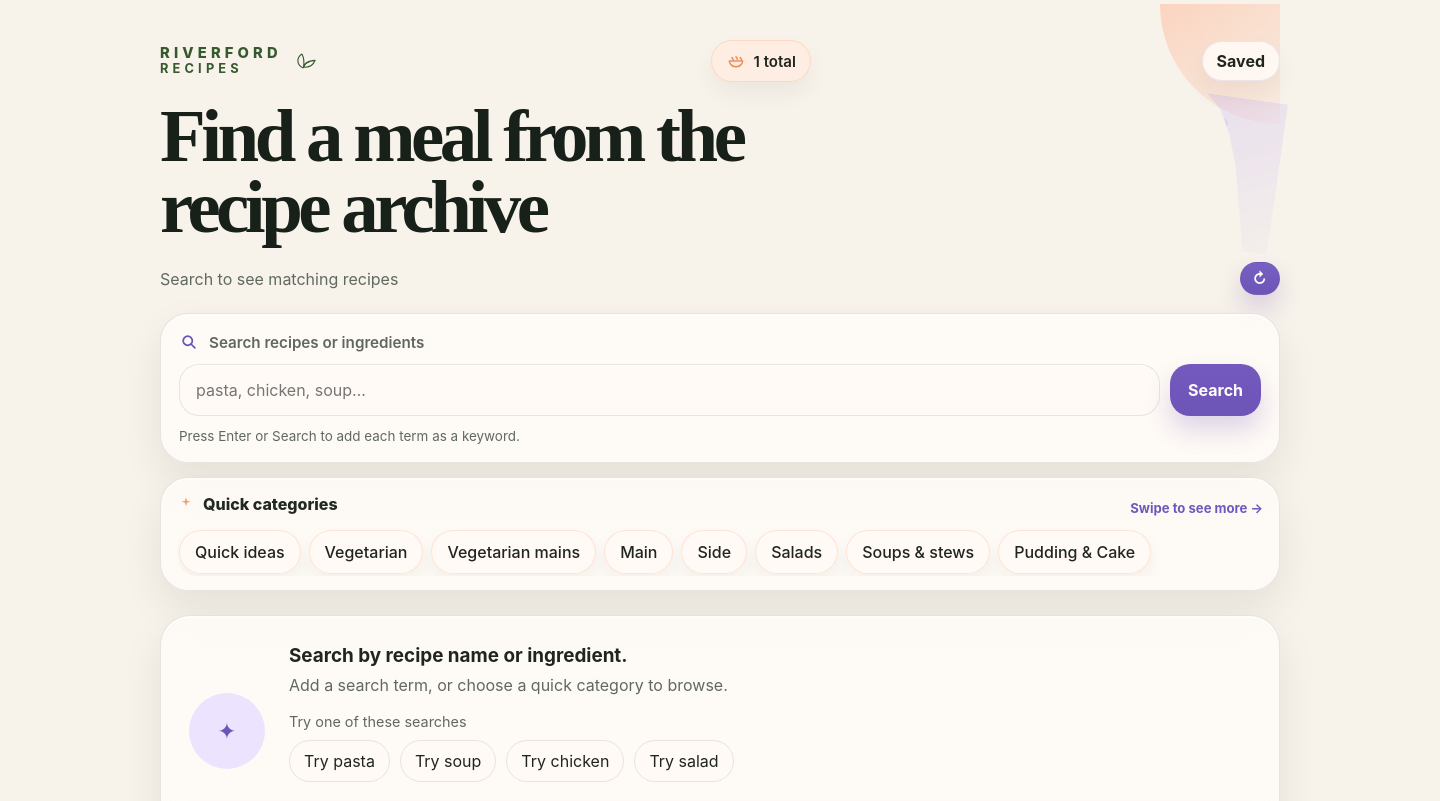
App › adds search chips with Enter and removes them with their buttons
Expected: the text "1 total" is shown, [710,40,811,82]
Type "carrot" into the field labelled "Search" at x=670, y=390, box [179,364,1160,416]
Then press Enter
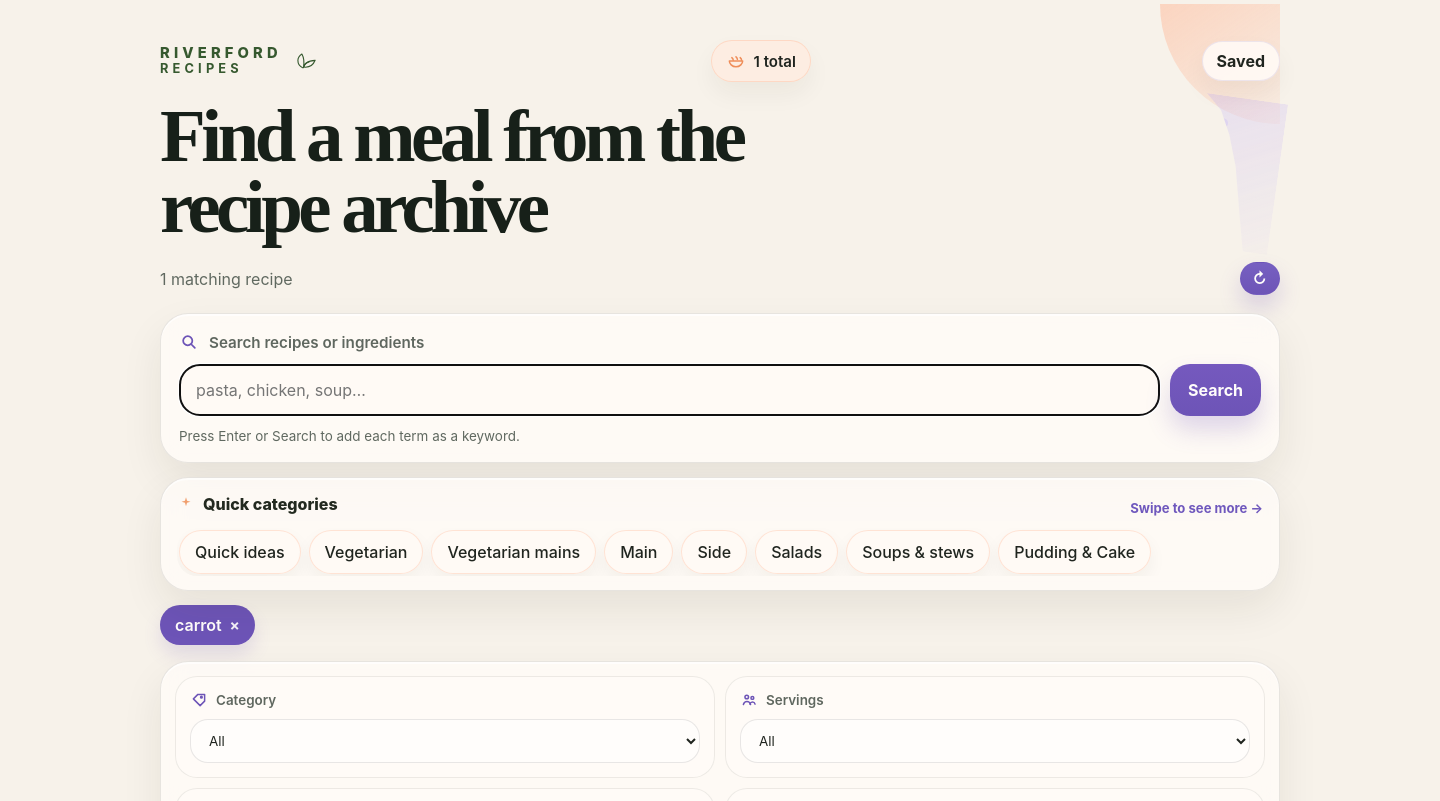
Now the button with aria-label "remove carrot" is shown
Click the button with aria-label "remove carrot" at x=207, y=626, box [160,606,255,646]
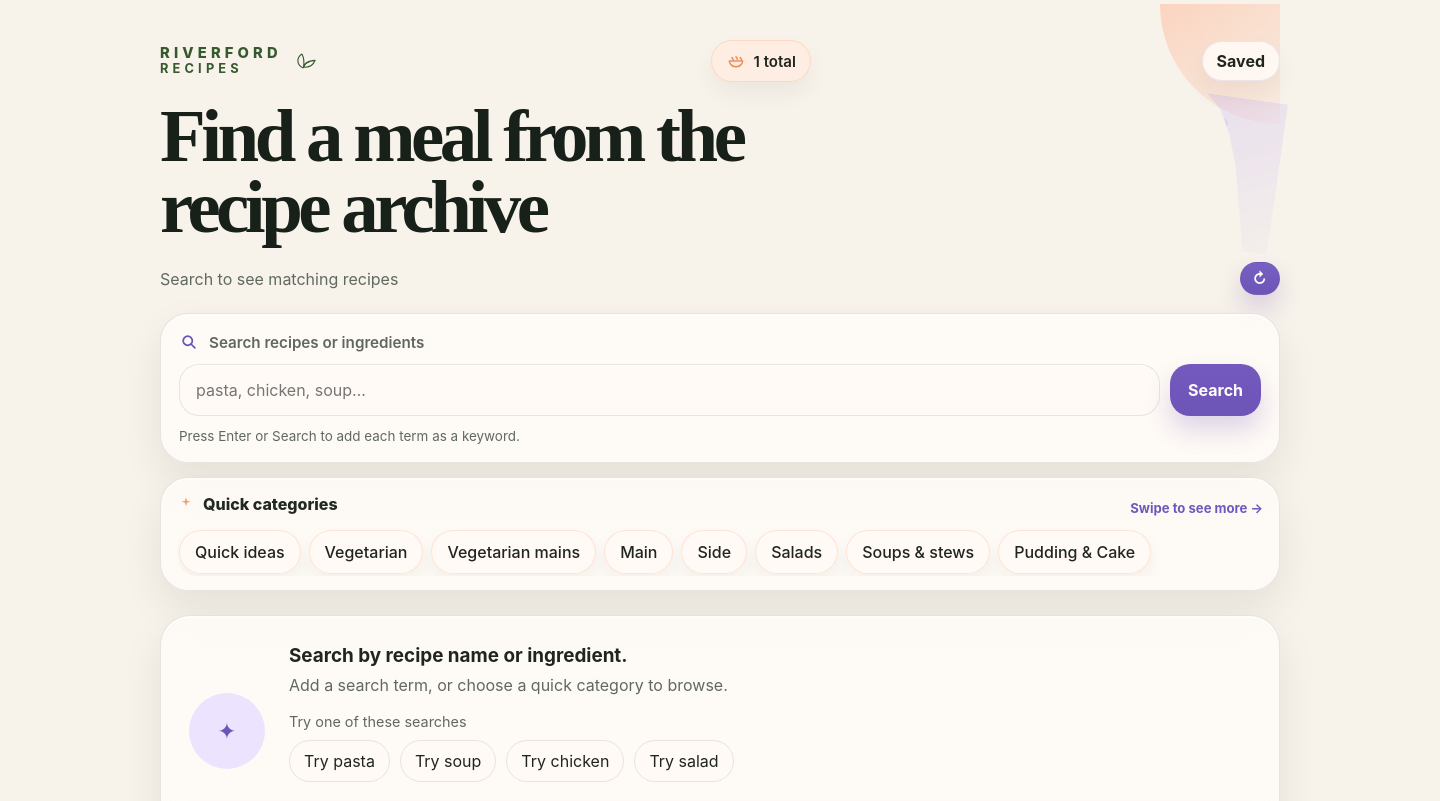
Now the heading "Search by recipe name or ingredient." is shown, box [289,644,628,668]
